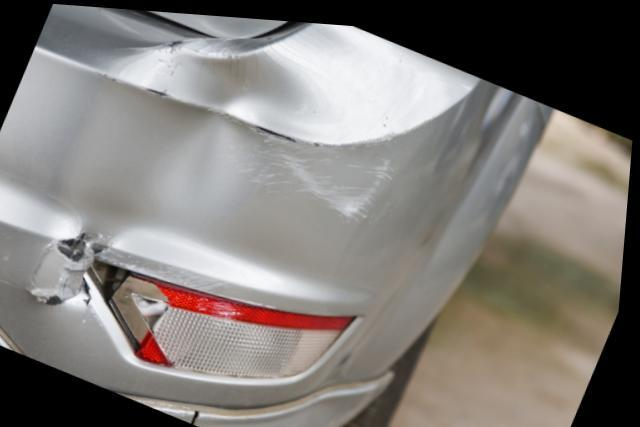dent: (63, 39, 317, 257)
dislocated part: (52, 17, 545, 427)
scratch: (244, 122, 409, 217)
